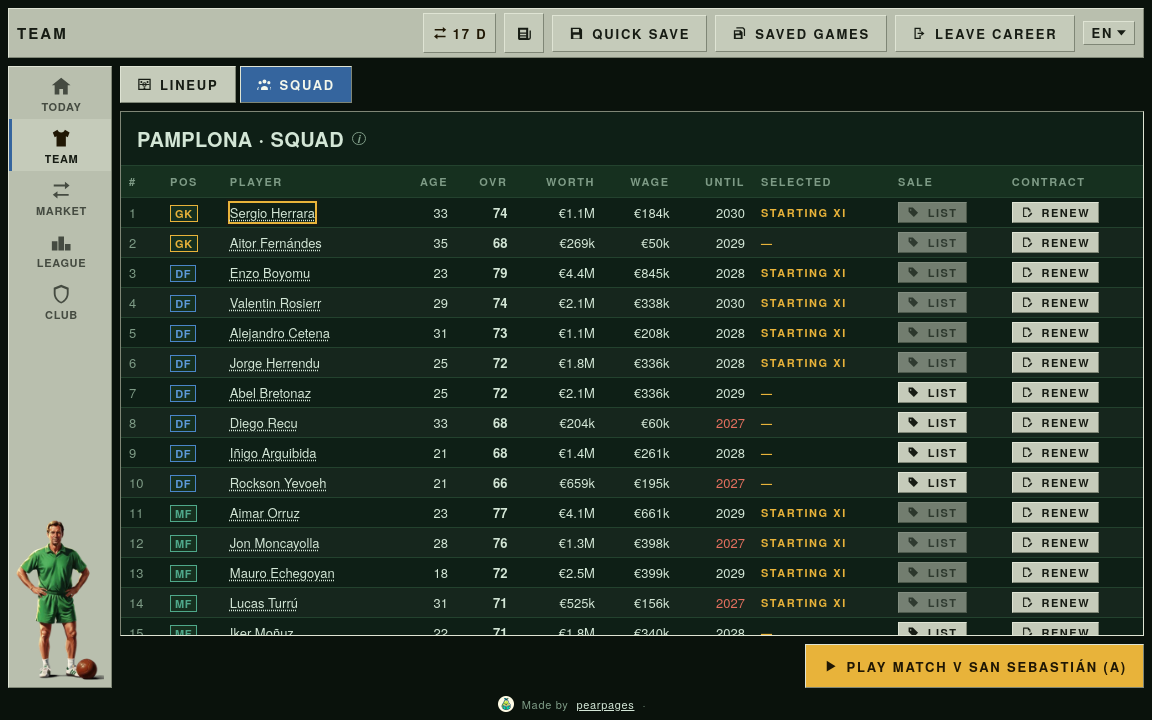
Test: arriving on a screen › takes focus to the new title when the pressed control went with the old screen
Click the button "Sergio Herrara" at {"x": 272, "y": 212}, box [230,203,315,222]
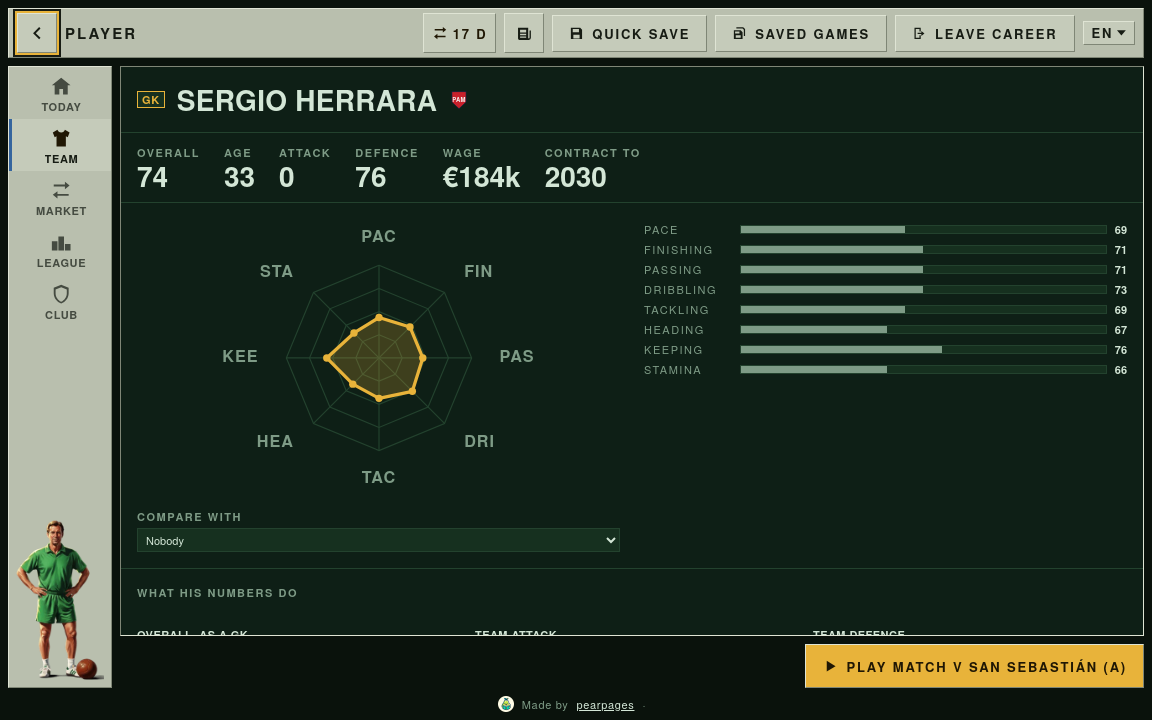
Expected: the heading "Player" is shown, [65,22,137,44]
Click the button named "Back" at {"x": 37, "y": 33}, box [17,13,57,53]
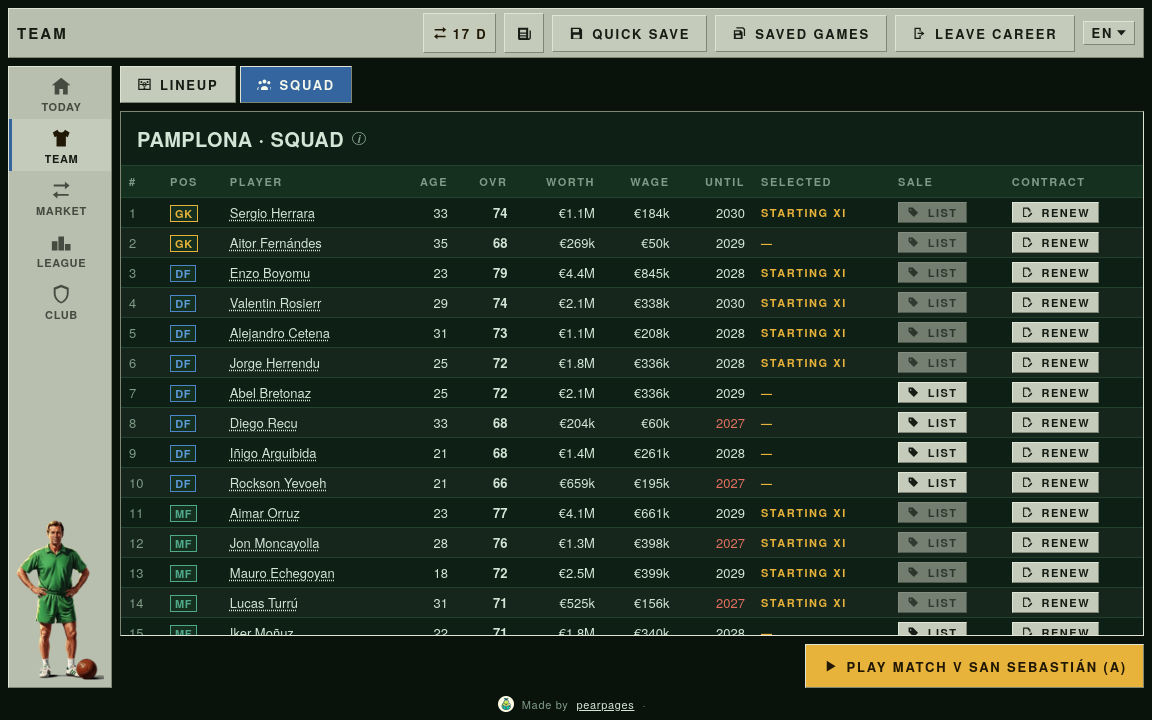
Expected: the heading "Team" is shown, [17,22,68,44]
